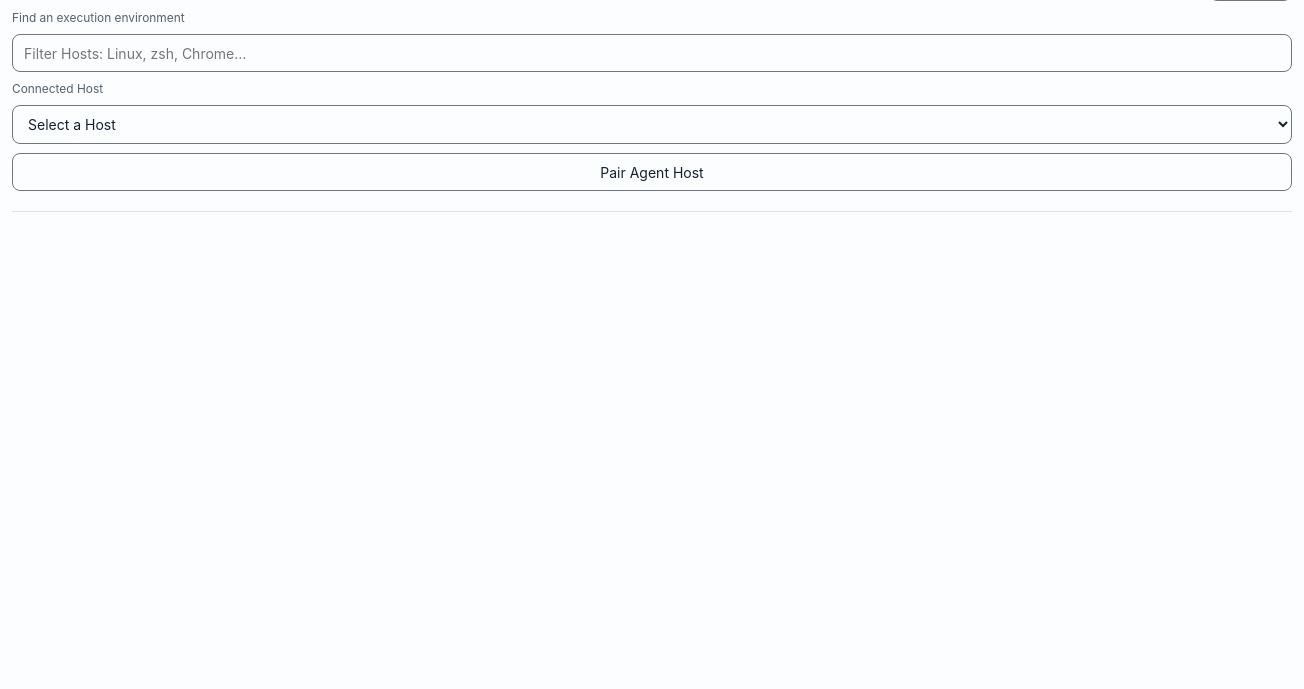
Test case: HostPairing › shows an expired key and prevents copying it
Click the button "Pair Agent Host" at (652, 172), box [12, 153, 1292, 191]
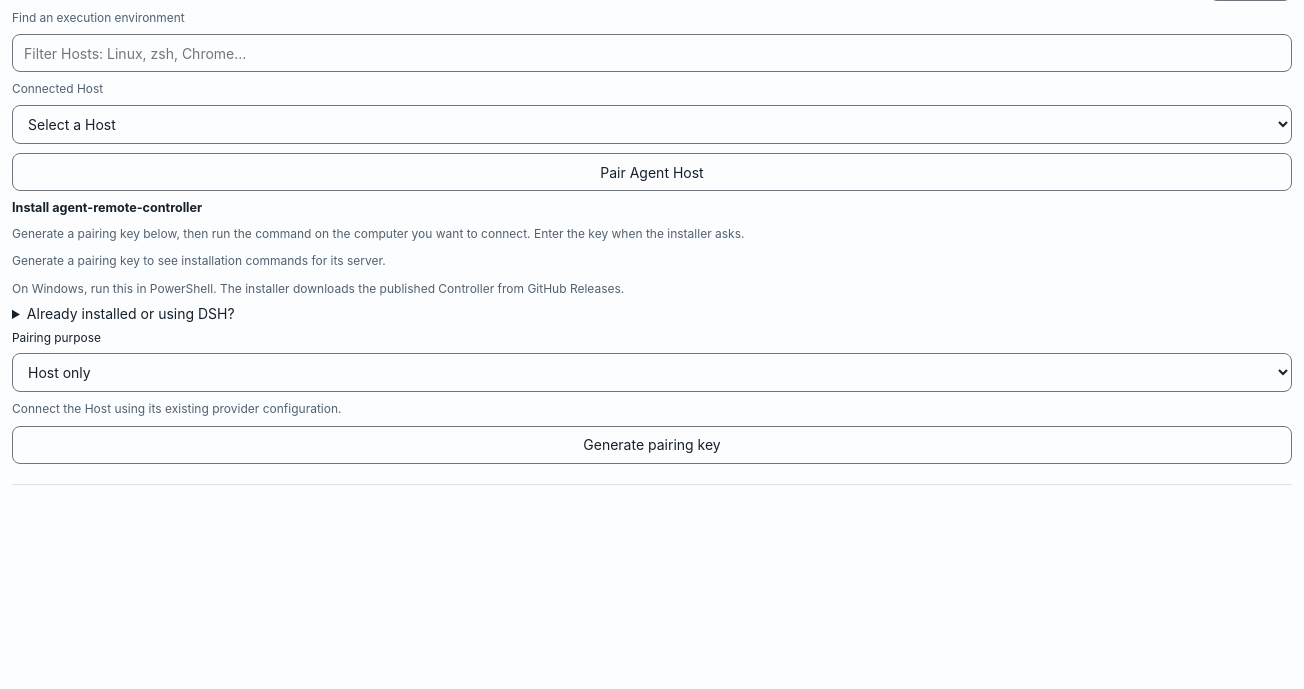
Click the button "Generate pairing key" at (652, 445), box [12, 426, 1292, 464]
(page scrolled)
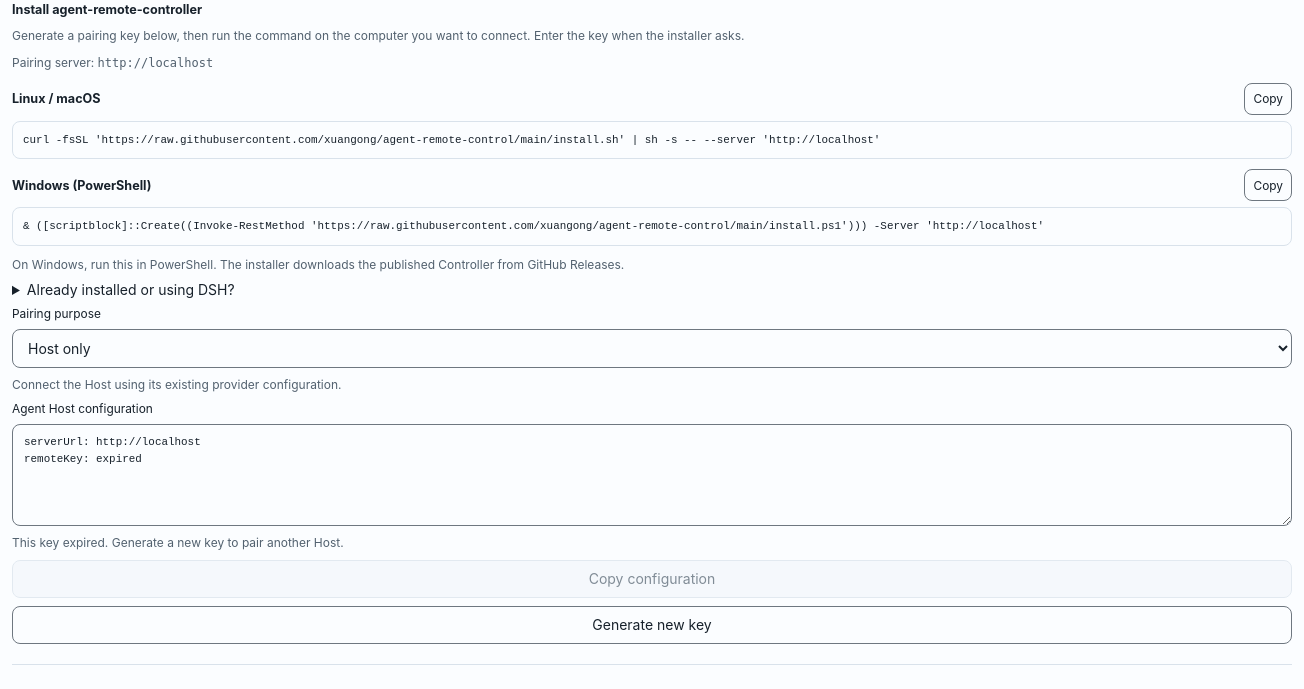
Expected: the text "This key expired" is shown, [12, 535, 344, 550]
Expected: the button "Copy configuration" is disabled, [12, 560, 1292, 598]
